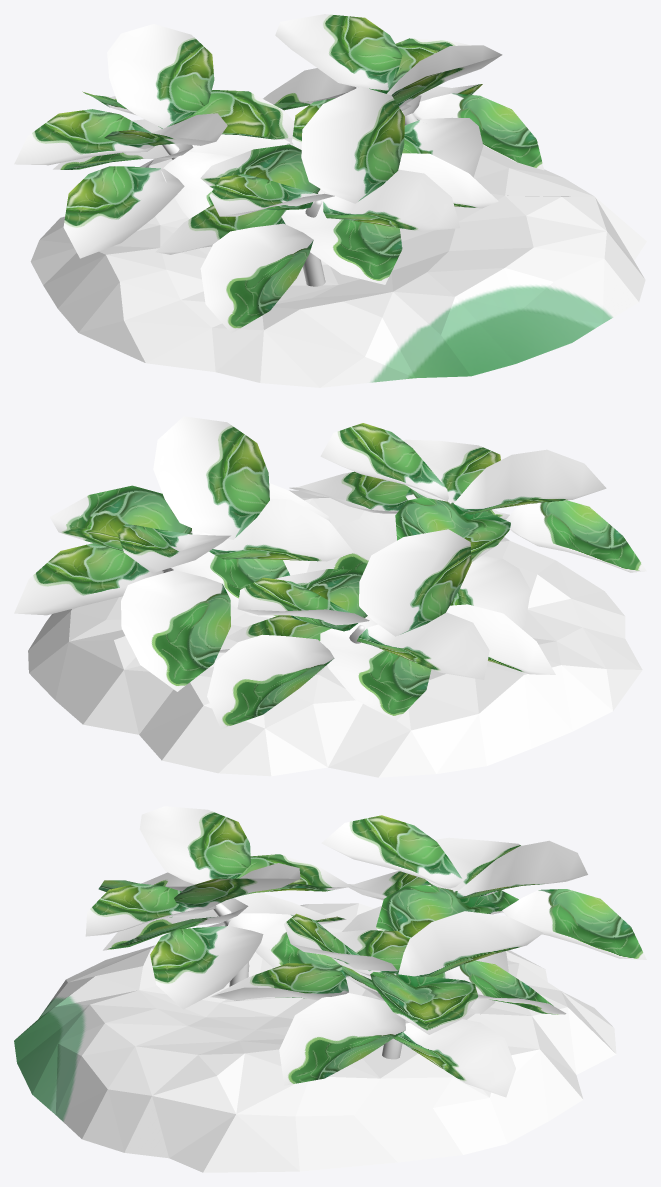
Rendered from Cabbage4.fbx.
3 renders of one model, top to bottom at view 1: azimuth 30°, elevation 25°; view 2: azimuth 150°, elevation 25°; view 3: azimuth 270°, elevation 25°, orthographic. The views are drawn at different scales.
Parts seen in each view (by area): view 1: 4; view 2: 4; view 3: 4.
Part boxes in pixels (<box>): 4: <box>14,14,646,387</box>; 4: <box>14,416,646,777</box>; 4: <box>14,806,646,1172</box>.
Size of the model in its own units: 189 by 63.17 by 199.
